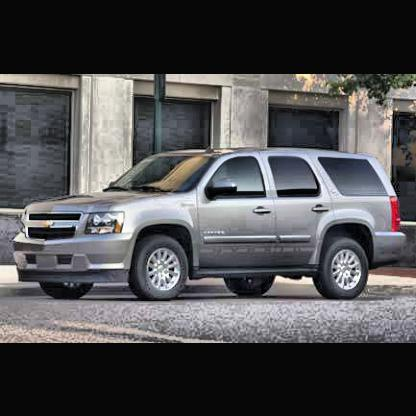Chevrolet Tahoe Hybrid SUV 2012: (14, 146, 405, 307)
